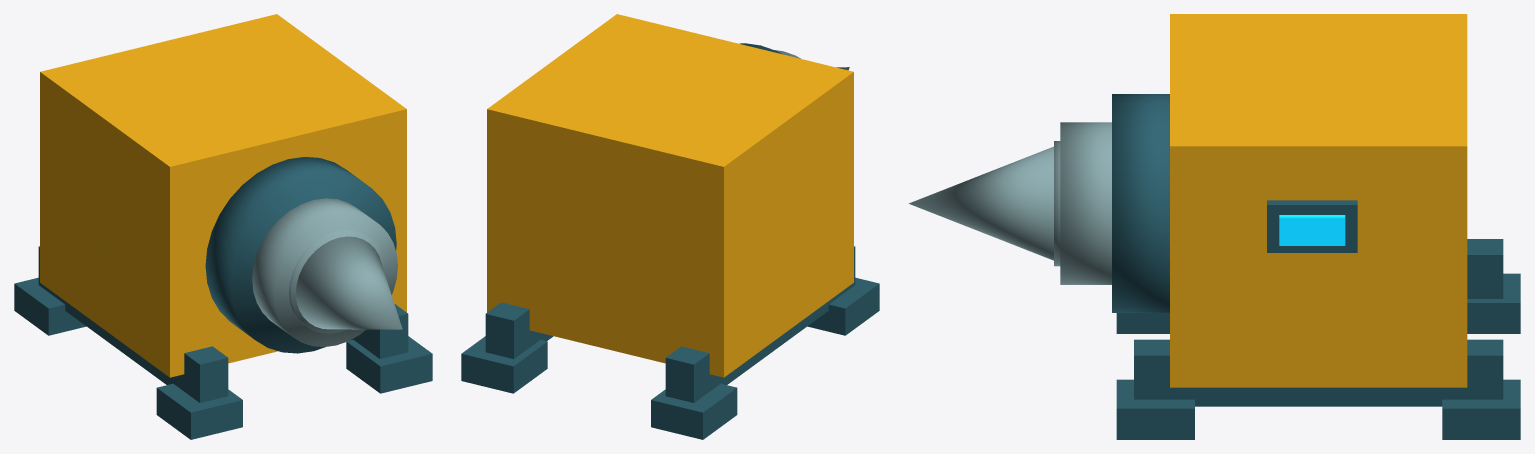
The model's file is drill.glb.
The picture shows the model from 3 angles, left to right: view 1: azimuth 30°, elevation 25°; view 2: azimuth 150°, elevation 25°; view 3: azimuth 270°, elevation 25°; orthographic projection. The views are drawn at different scales.
Visible parts, largest first — view 1: Drill housing, Drill collar, Drill spindle, Drill bit, Drill support, Drill foot, Drill foot.002, Drill foot.001, Drill support.001, Drill metal ring.001; view 2: Drill housing, Drill support, Drill foot.001, Drill foot.003, Drill support.001, Drill foot; view 3: Drill housing, Drill collar, Drill support.001, Drill spindle, Drill bit, Drill foot.003, Drill foot.002, Drill indicator bezel, Drill foot.001, Drill support, Drill indicator, Drill foot (+1 smaller).
Boxes of the visible parts, left/top/right/bottom form: Drill housing: left=40, top=14, right=406, bottom=377; Drill collar: left=205, top=157, right=396, bottom=353; Drill spindle: left=252, top=198, right=397, bottom=346; Drill bit: left=296, top=236, right=402, bottom=329; Drill support: left=38, top=246, right=228, bottom=402; Drill foot: left=156, top=383, right=242, bottom=439; Drill foot.002: left=346, top=336, right=432, bottom=393; Drill foot.001: left=14, top=277, right=86, bottom=335; Drill support.001: left=350, top=304, right=408, bottom=358; Drill metal ring.001: left=289, top=230, right=386, bottom=333; Drill housing: left=487, top=14, right=853, bottom=377; Drill support: left=665, top=246, right=855, bottom=402; Drill foot.001: left=651, top=383, right=737, bottom=439; Drill foot.003: left=461, top=336, right=547, bottom=393; Drill support.001: left=485, top=302, right=553, bottom=358; Drill foot: left=807, top=277, right=879, bottom=335; Drill housing: left=1170, top=14, right=1467, bottom=387; Drill collar: left=1112, top=94, right=1169, bottom=312; Drill support.001: left=1134, top=339, right=1503, bottom=406; Drill spindle: left=1060, top=122, right=1111, bottom=284; Drill bit: left=909, top=146, right=1053, bottom=260; Drill foot.003: left=1442, top=379, right=1520, bottom=439; Drill foot.002: left=1116, top=379, right=1194, bottom=439; Drill indicator bezel: left=1267, top=200, right=1357, bottom=252; Drill foot.001: left=1467, top=273, right=1520, bottom=333; Drill support: left=1467, top=239, right=1503, bottom=298; Drill indicator: left=1279, top=215, right=1345, bottom=245; Drill foot: left=1116, top=313, right=1169, bottom=333.
Size of the model in its own units: 1.07 by 1.03 by 1.96.
